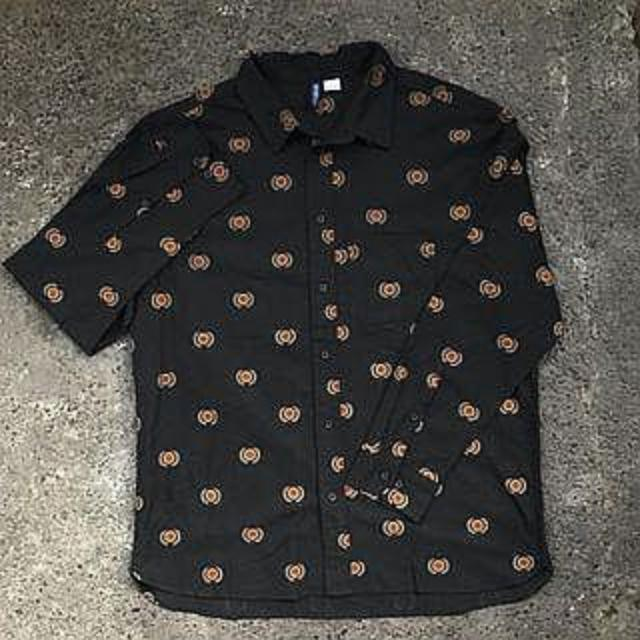SHIRT: (0, 39, 583, 626)
